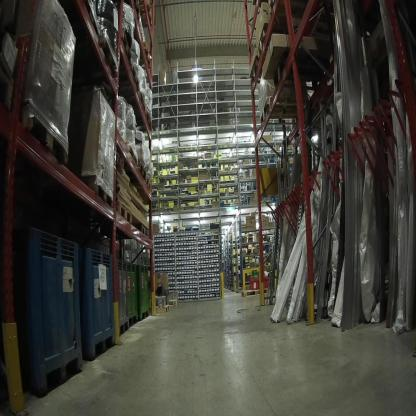pallet: (9, 90, 70, 162), (70, 170, 111, 209), (92, 24, 119, 83), (260, 101, 308, 127), (268, 3, 324, 18), (256, 25, 278, 61), (130, 37, 153, 71), (119, 22, 136, 65), (121, 63, 142, 95), (250, 59, 275, 85), (132, 1, 154, 29), (122, 110, 152, 130), (119, 93, 150, 112), (117, 196, 135, 225), (239, 287, 273, 299), (125, 143, 140, 165), (154, 305, 171, 317), (140, 160, 146, 180), (167, 299, 179, 308), (146, 176, 153, 191), (142, 228, 150, 241)
small_load_carrier: (258, 275, 270, 289), (247, 277, 259, 289)
